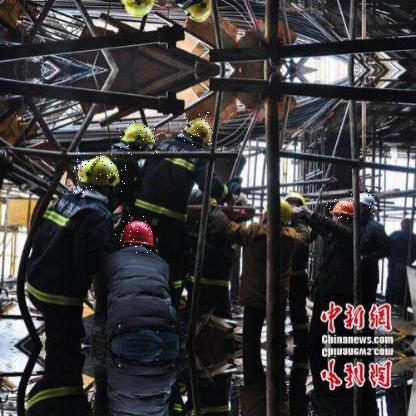safetyhelmet: (72, 152, 127, 194), (114, 214, 158, 254), (115, 120, 159, 156), (180, 112, 214, 146), (326, 195, 356, 224), (354, 188, 378, 216)
